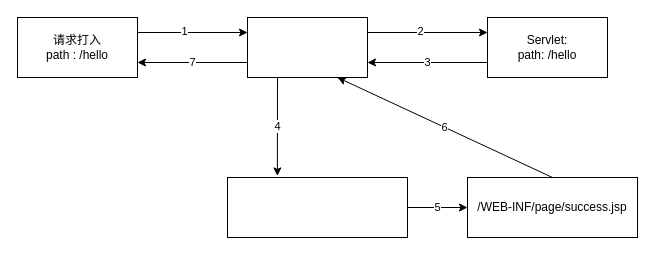
This 655x255 diagram has some shape labels left out. The shapes that lost their labels are listed below. From the top down, each one's centre as x and y in pixels, then its label:
At (307,47): "DispatcherServlet: path : /".
At (317,207): "InternalResourceViewResoler: path: success".
